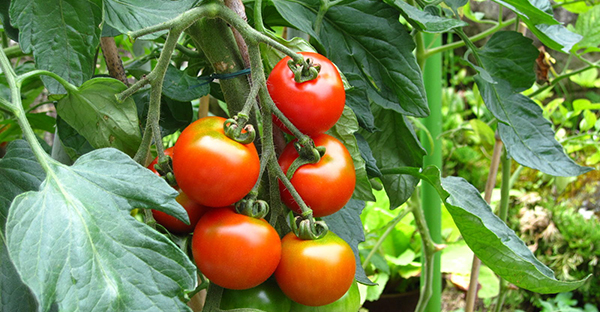stems: (276, 162, 316, 235), (271, 99, 316, 158), (256, 33, 308, 71), (242, 154, 267, 217), (151, 122, 176, 183), (231, 81, 258, 136)
tomato: (171, 116, 263, 208), (188, 209, 279, 290), (262, 52, 346, 134), (275, 135, 356, 218), (274, 227, 355, 306), (144, 143, 211, 234)
